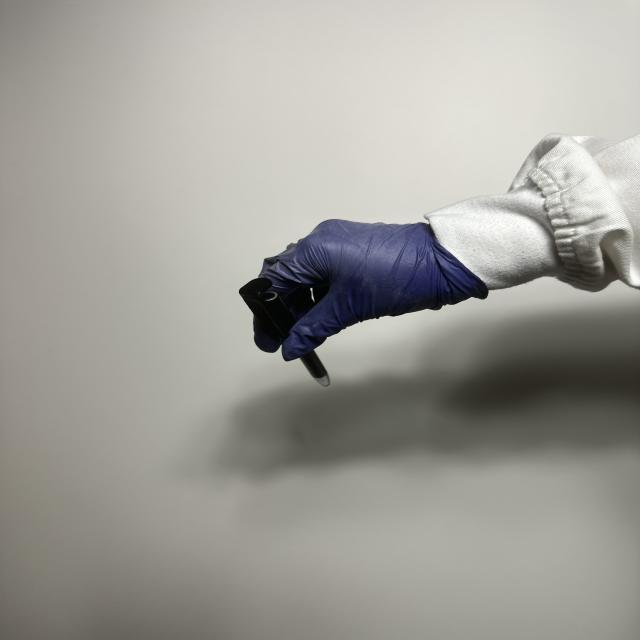gloves_contaminated: (255, 220, 488, 360)
